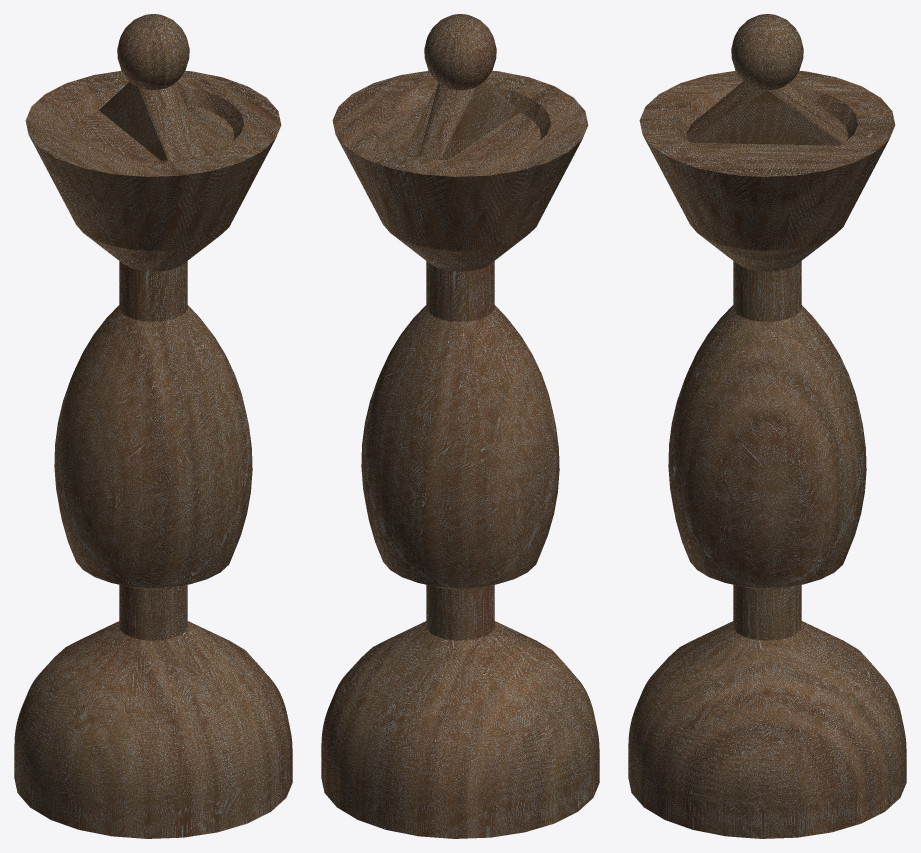
The model's file is Queen Black.fbx.
The picture shows the model from 3 angles, left to right: view 1: azimuth 30°, elevation 25°; view 2: azimuth 150°, elevation 25°; view 3: azimuth 270°, elevation 25°; orthographic projection.
Parts seen in each view (by area): view 1: Queen_Black1; view 2: Queen_Black1; view 3: Queen_Black1.
Part boxes in pixels (box(x1,y1,x2,y2)): Queen_Black1: box(14, 14, 292, 838); Queen_Black1: box(321, 14, 599, 838); Queen_Black1: box(628, 14, 906, 838).
Size of the model in its own units: 0.0475 by 0.1435 by 0.0475.
